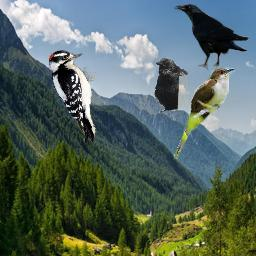Crow: (174, 3, 249, 71), (153, 57, 188, 113)
Cuckoo: (173, 67, 235, 159)
Woodpecker: (49, 50, 96, 144)
